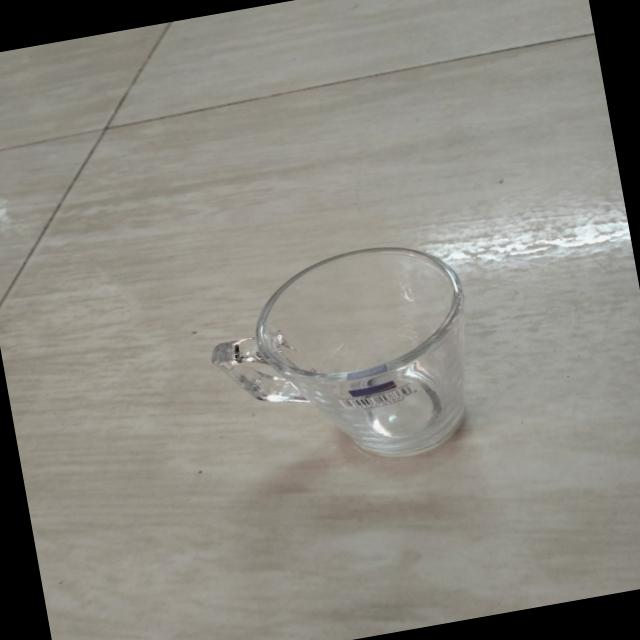glass-VX4N: (198, 230, 490, 488)
